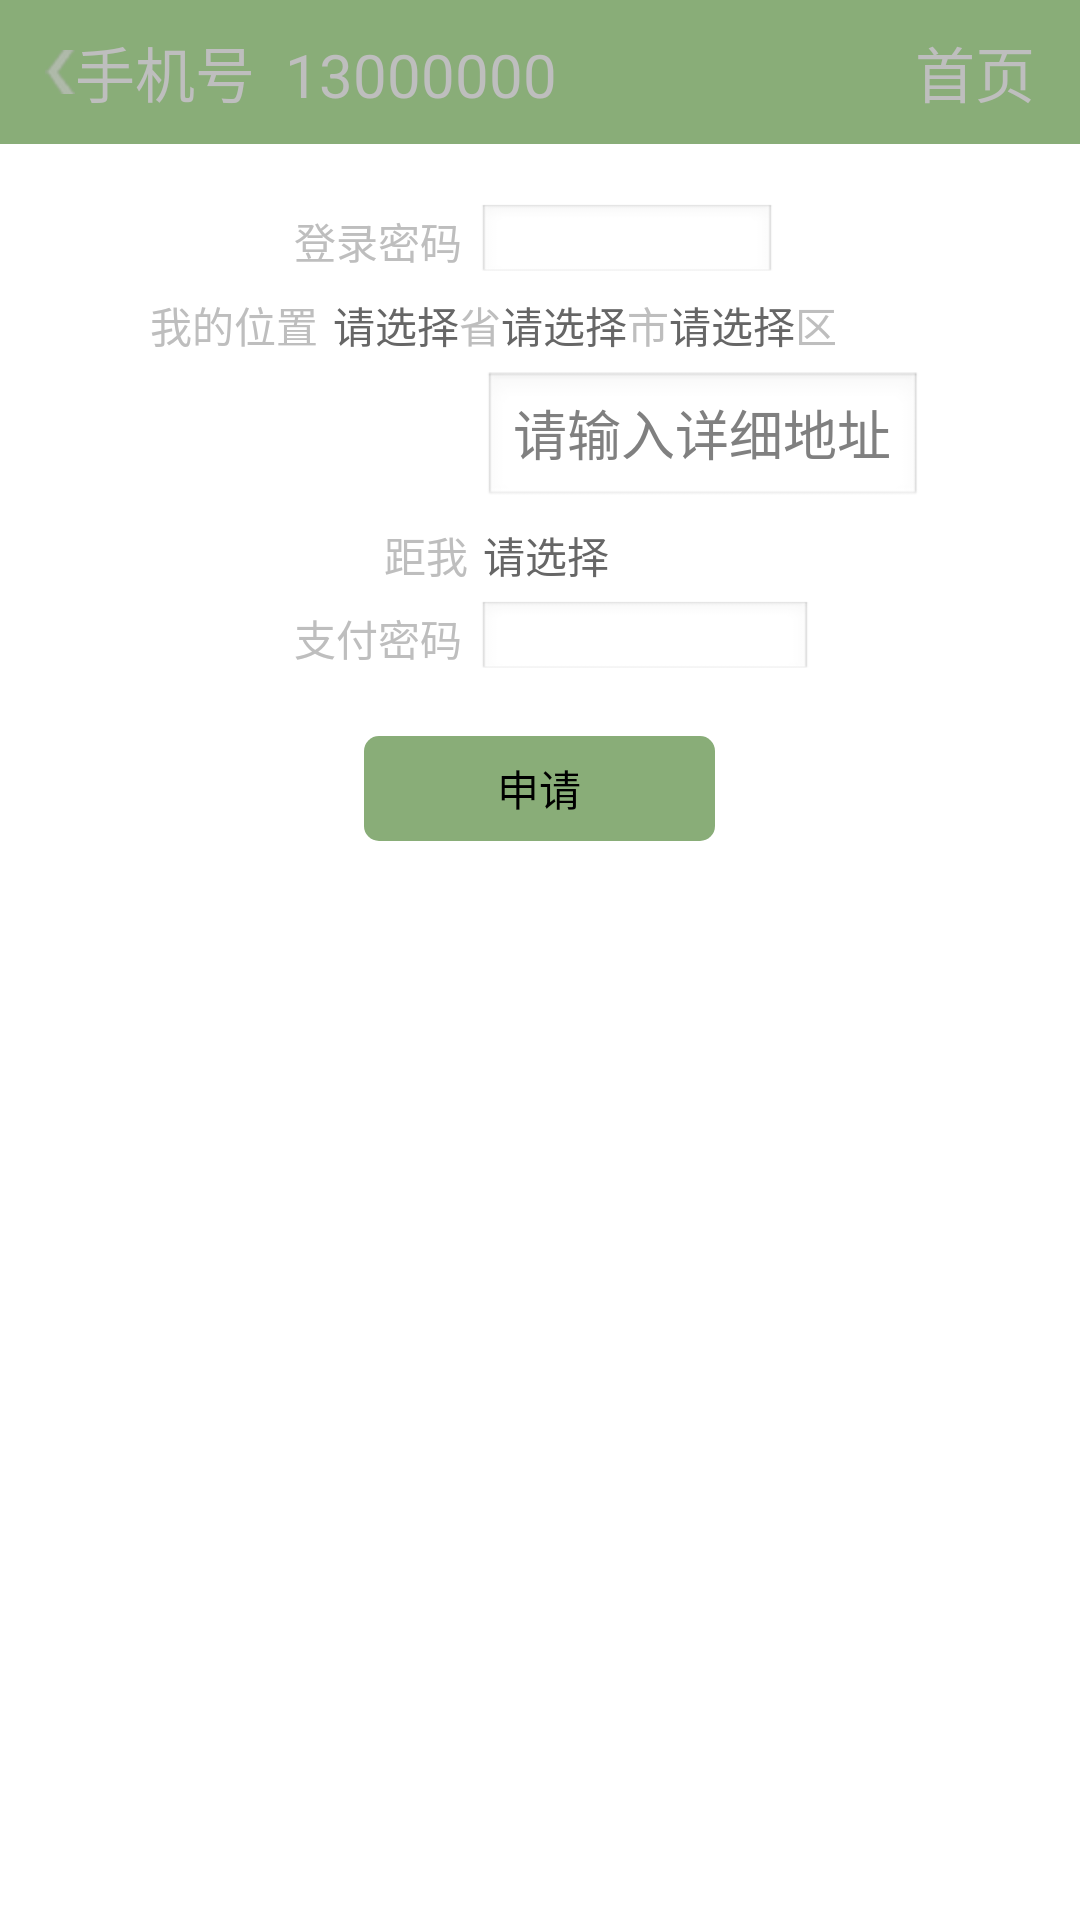

Named icons in this screenshot (1080px x 1920px) and their bounding boxes, BBox(x1, y1, x2, y2):
arrow left: BBox(48, 50, 74, 94)
